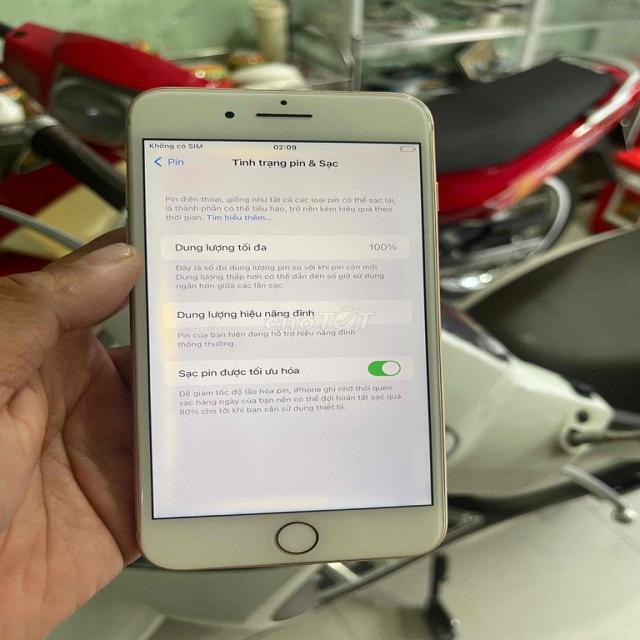gen_7_8: (127, 87, 446, 569)
